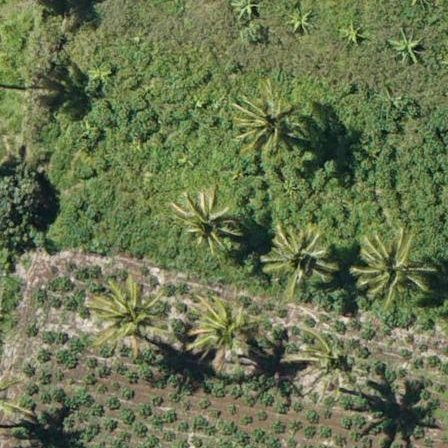palm_tree: (89, 272, 163, 351), (357, 232, 431, 309), (232, 83, 304, 162), (262, 214, 334, 290), (174, 193, 237, 257), (192, 292, 253, 357), (299, 327, 360, 385)
